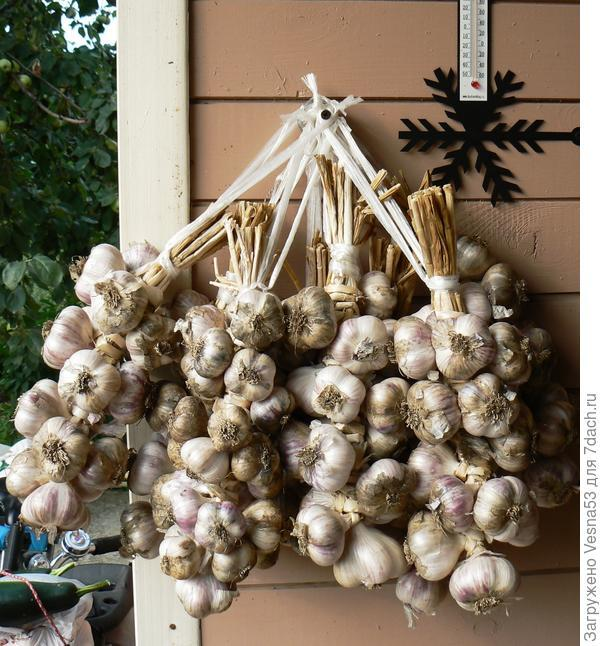garlic: (39, 250, 566, 588)
